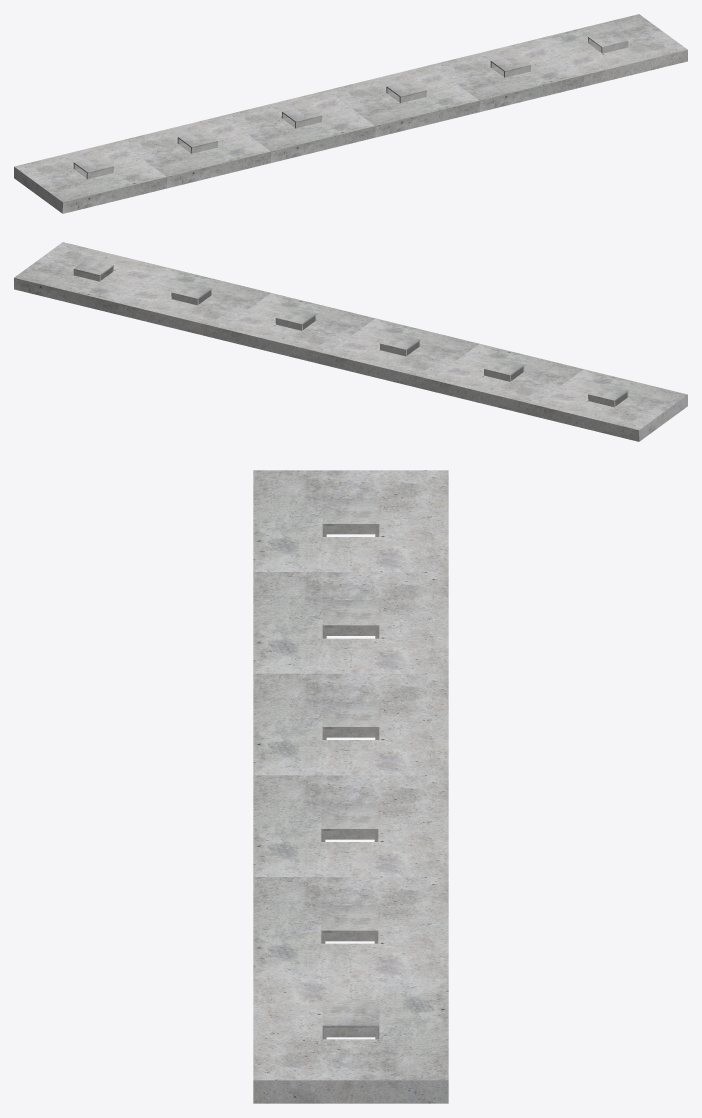
File: techito-12.fbx
3 views of the same model, one above another, from view 1: azimuth 30°, elevation 25°; view 2: azimuth 150°, elevation 25°; view 3: azimuth 270°, elevation 25° (orthographic). The views are drawn at different scales.
Visible parts, largest first — view 1: polySurface146; view 2: polySurface146; view 3: polySurface146.
Boxes of the visible parts, x1,y1,x2,y2 form: polySurface146: (14,14,687,213); polySurface146: (14,242,687,441); polySurface146: (253,470,448,1103).
Size of the model in its own units: 448 by 12.51 by 60.54.
